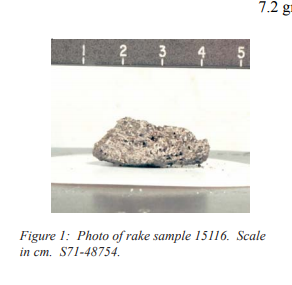Basalt: (95, 110, 221, 163)
